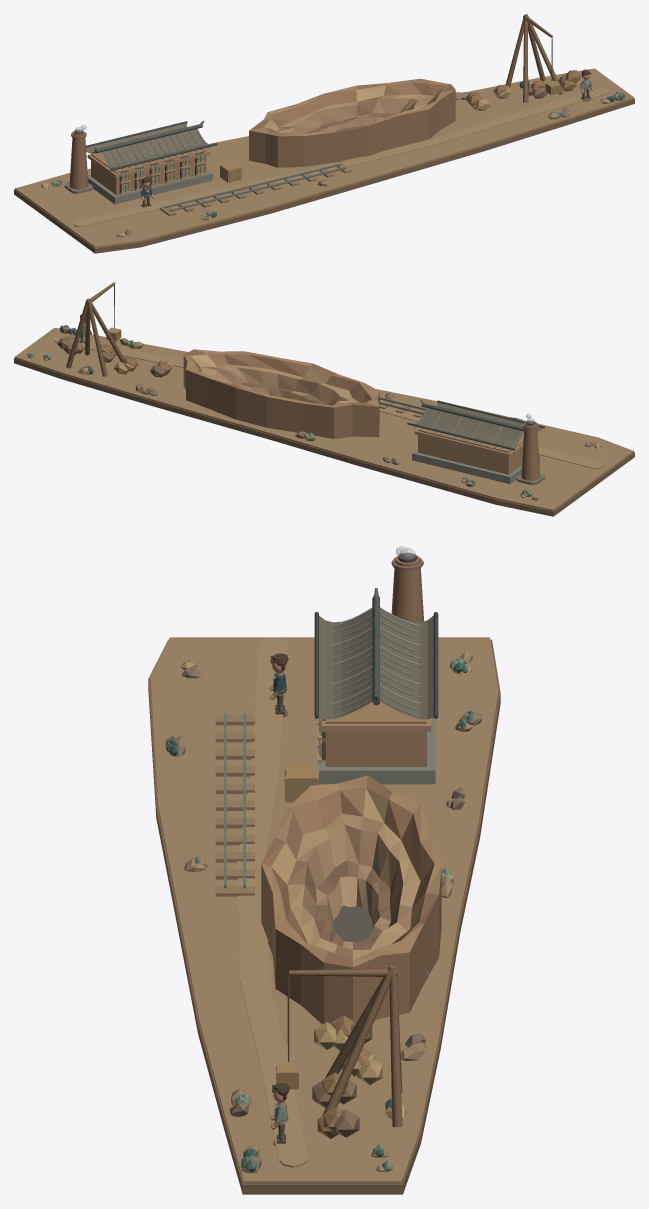
Rendered from kimberley.glb.
The picture shows the model from 3 angles, top to bottom: view 1: azimuth 30°, elevation 25°; view 2: azimuth 150°, elevation 25°; view 3: azimuth 270°, elevation 25°; orthographic projection. The views are drawn at different scales.
Visible parts, largest first — view 1: TerrainAndBuildings; view 2: TerrainAndBuildings; view 3: TerrainAndBuildings.
Part boxes in pixels (x1,y1,x2,y2): TerrainAndBuildings: (14, 14, 634, 253); TerrainAndBuildings: (14, 282, 634, 516); TerrainAndBuildings: (148, 552, 500, 1194).
Bounding box in the file's own units: 1.73 × 0.2337 × 0.4717.
